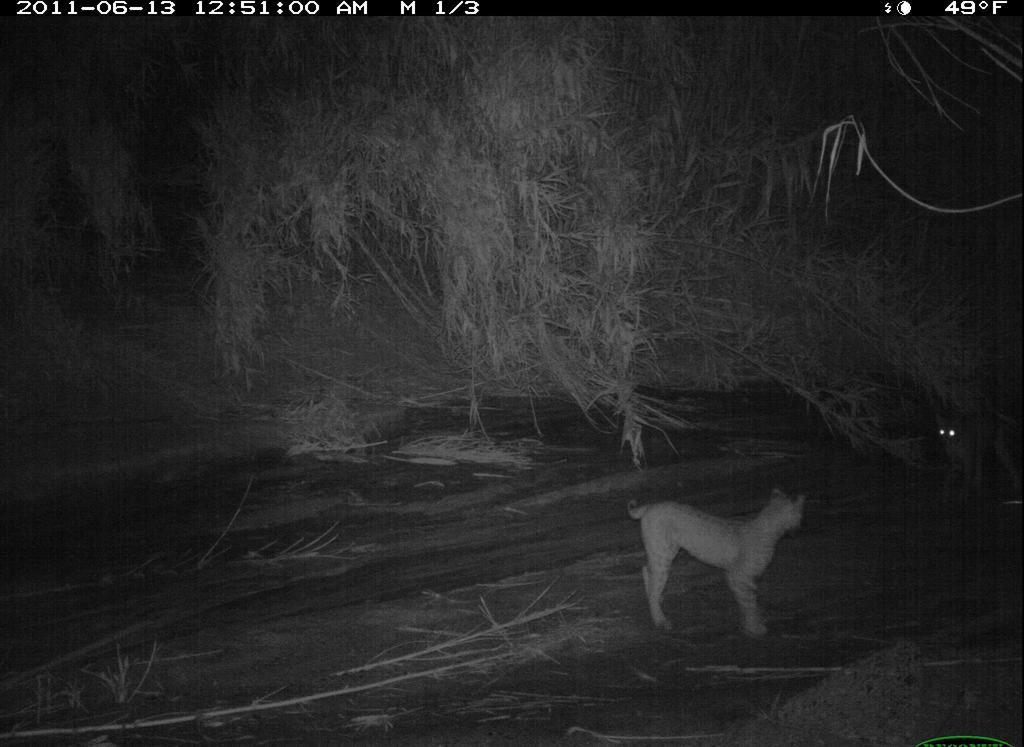bobcat: (621, 481, 815, 642), (922, 400, 1018, 516)
